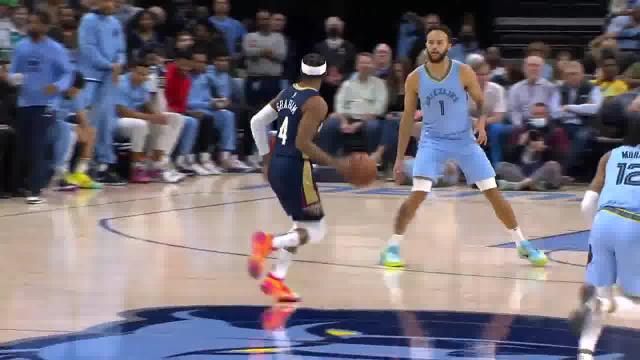ball-handler: (236, 48, 378, 307)
player: (376, 24, 543, 269), (578, 109, 640, 360)
